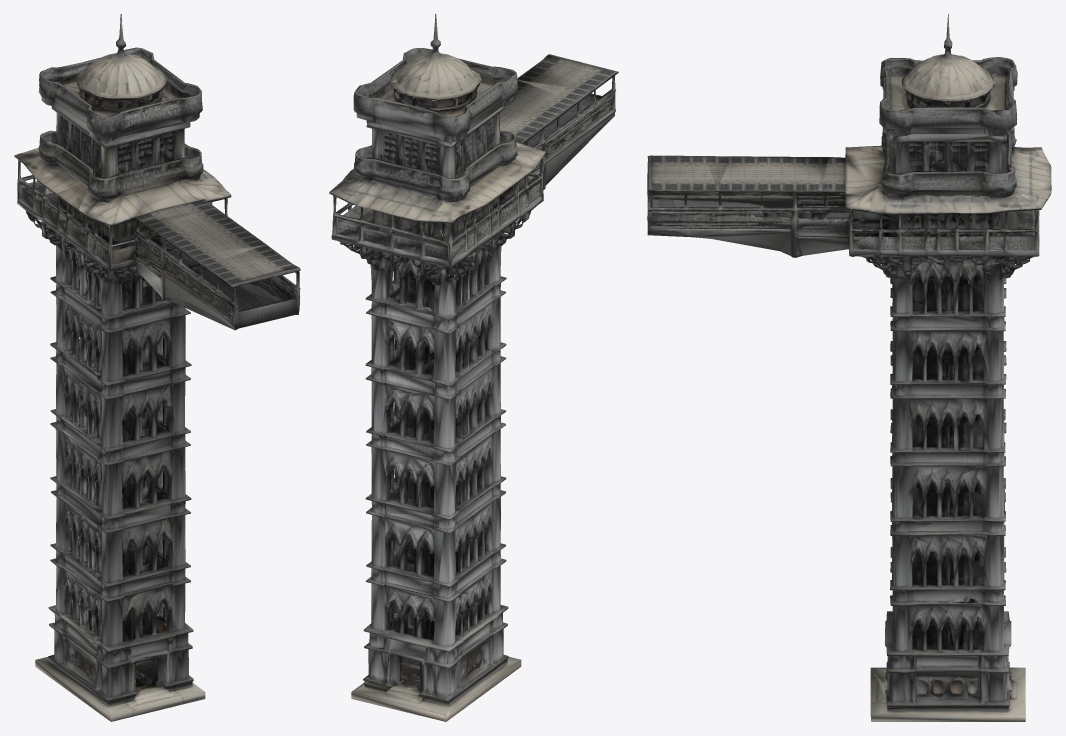
The model's file is elevador.glb.
3 views of the same model, side by side, from view 1: azimuth 30°, elevation 25°; view 2: azimuth 150°, elevation 25°; view 3: azimuth 270°, elevation 25° (orthographic). The views are drawn at different scales.
Parts seen in each view (by area): view 1: elevador; view 2: elevador; view 3: elevador.
Boxes of the visible parts, left/top/right/bottom form: elevador: left=14, top=14, right=300, bottom=721; elevador: left=329, top=14, right=618, bottom=721; elevador: left=647, top=14, right=1051, bottom=721.
Bounding box in the file's own units: 0.4257 × 2 × 1.07.
1 material, 1 textured.
